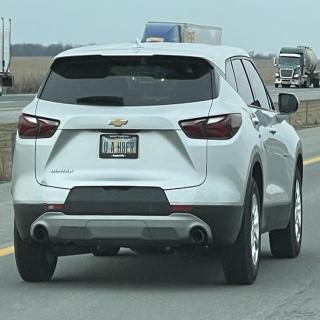license: (100, 134, 140, 160)
